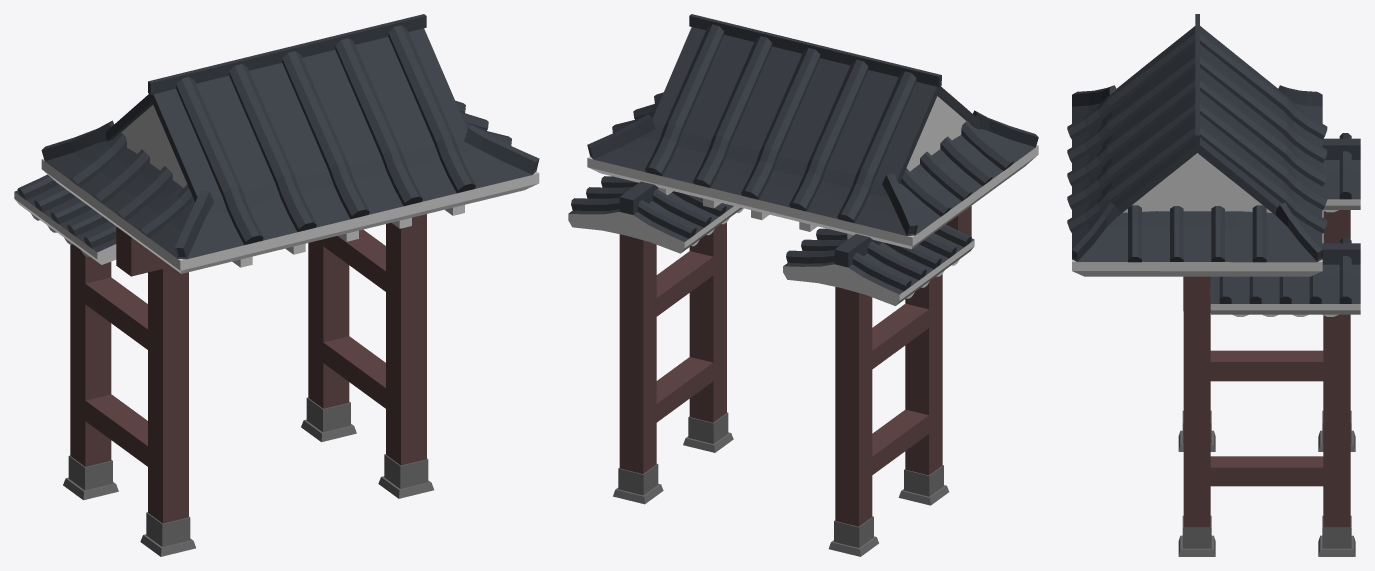
File: back_door_closed.glb
3 views of the same model, side by side, from view 1: azimuth 30°, elevation 25°; view 2: azimuth 150°, elevation 25°; view 3: azimuth 270°, elevation 25° (orthographic). The views are drawn at different scales.
Parts seen in each view (by area): view 1: kouraimon; view 2: kouraimon; view 3: kouraimon.
Part boxes in pixels (bbox=[...]): kouraimon: bbox=[14, 14, 539, 556]; kouraimon: bbox=[568, 14, 1038, 556]; kouraimon: bbox=[1067, 14, 1360, 556].
Bounding box in the file's own units: 1.42 × 1.7 × 1.07.
